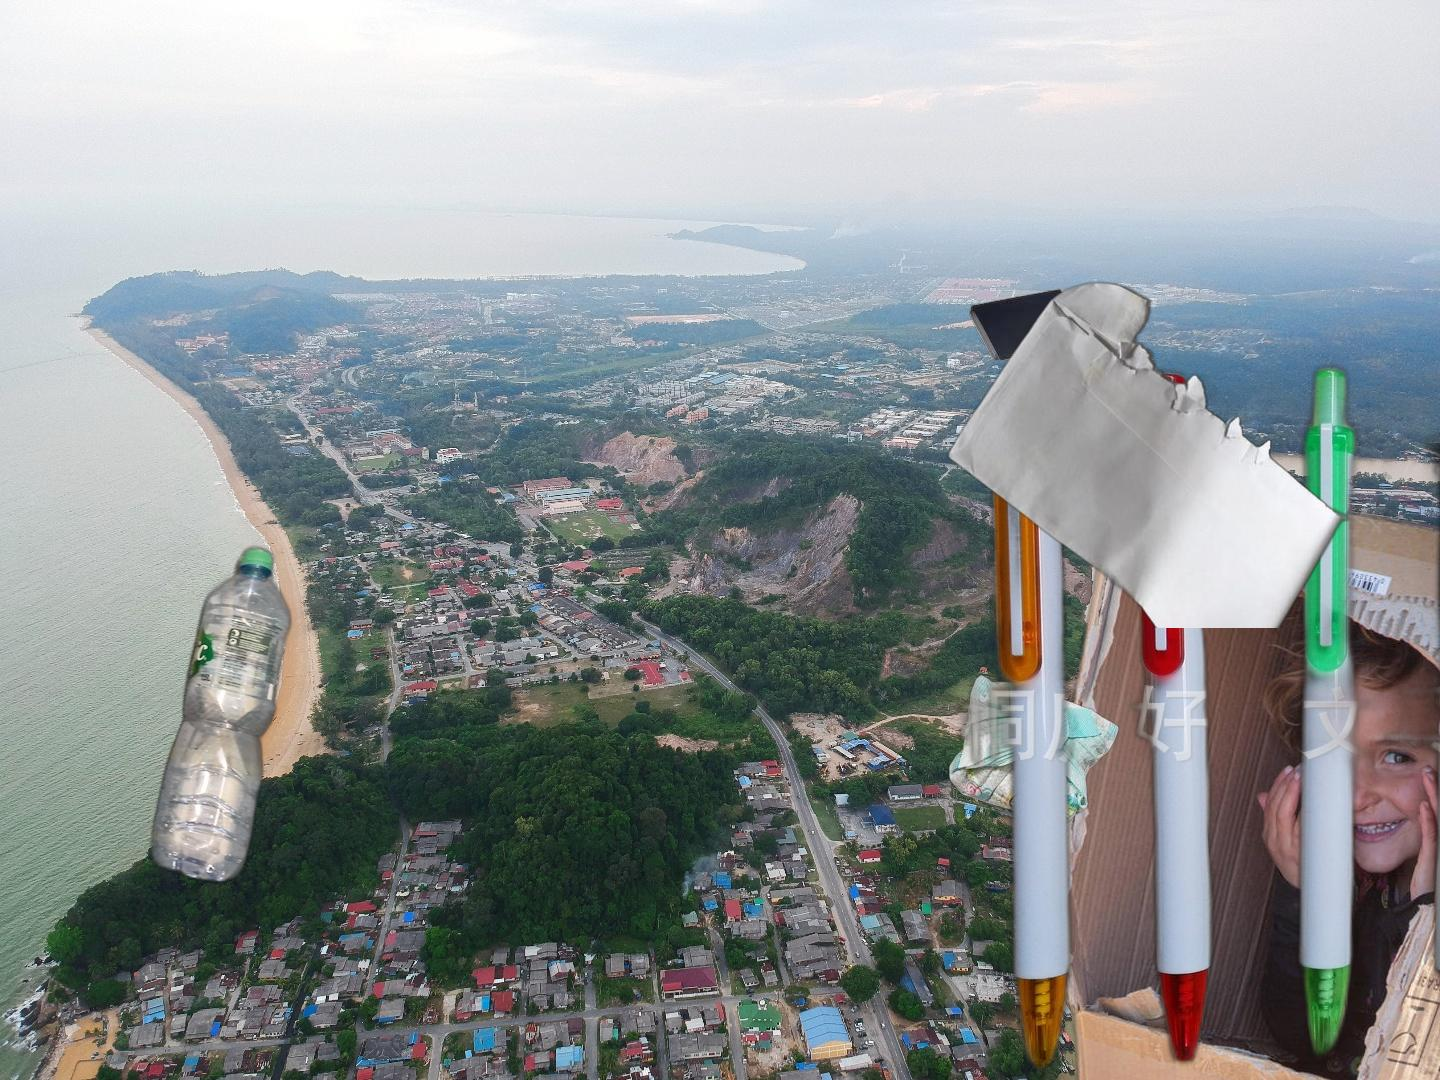battery: (967, 286, 1092, 365)
paper: (946, 279, 1354, 628)
penholder: (951, 357, 1440, 1080)
plastic-bottles: (147, 540, 296, 889)
trash: (946, 672, 1123, 827)
trashbox-cardboard: (1035, 461, 1440, 1080)
